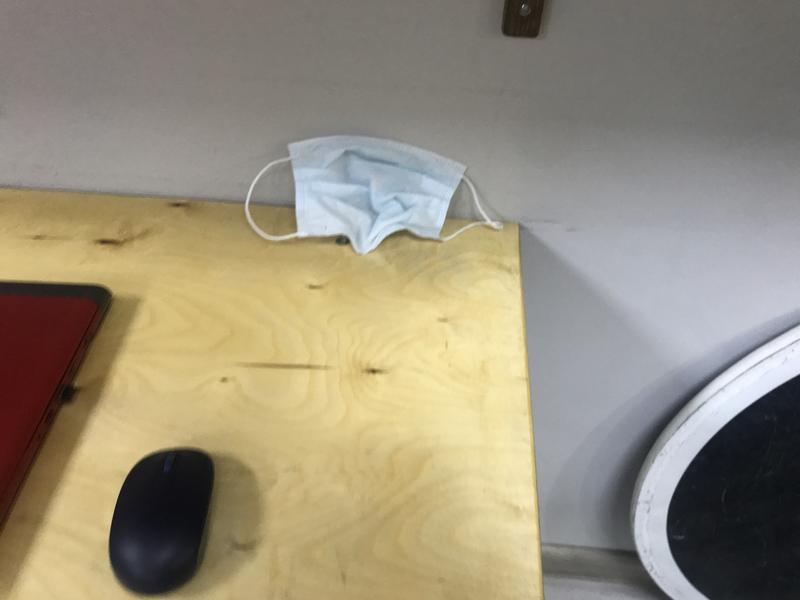medical_mask: (245, 139, 501, 250)
